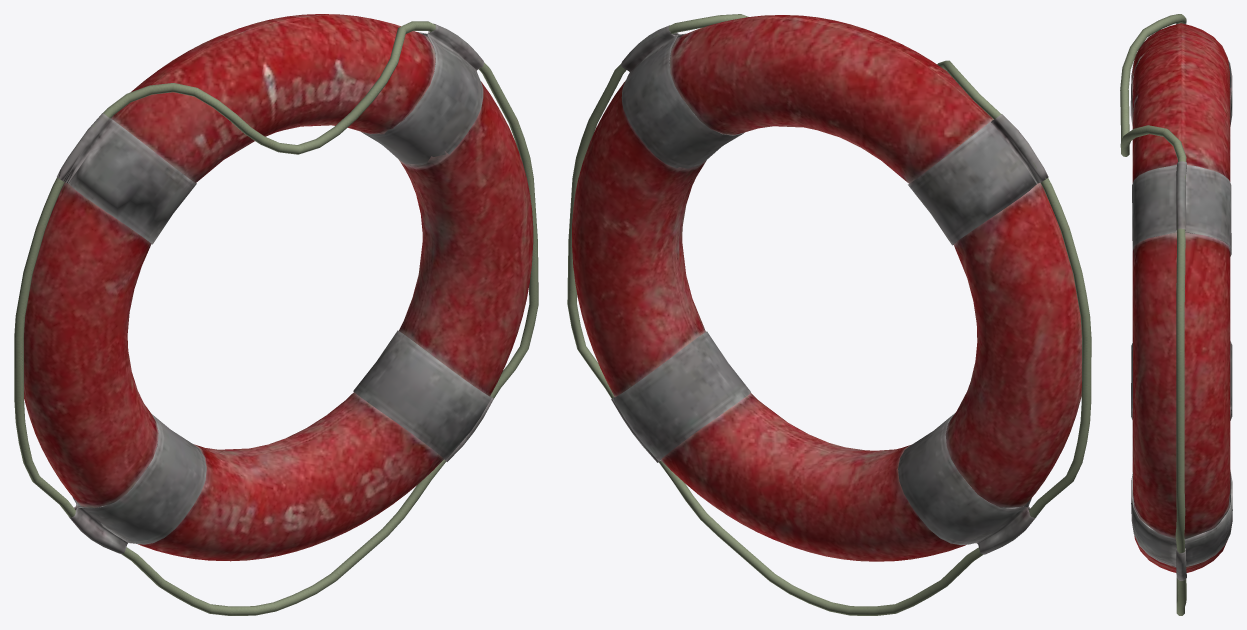
File: lifebuoy.glb
3 renders of one model, left to right at view 1: azimuth 30°, elevation 25°; view 2: azimuth 150°, elevation 25°; view 3: azimuth 270°, elevation 25°, orthographic. The views are drawn at different scales.
Parts seen in each view (by area): view 1: lifebuoy; view 2: lifebuoy; view 3: lifebuoy.
Part boxes in pixels (x1,y1,x2,y2): lifebuoy: [14, 14, 538, 615]; lifebuoy: [567, 14, 1091, 615]; lifebuoy: [1120, 14, 1232, 615].
Bounding box in the file's own units: 0.783 × 0.8412 × 0.1551.
Materials: 1 (1 with a texture image).
